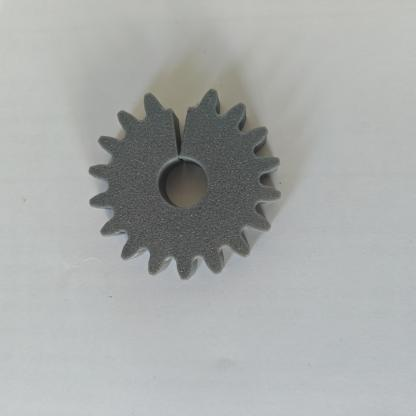defect: (139, 82, 251, 172)
gear: (83, 75, 289, 297)
